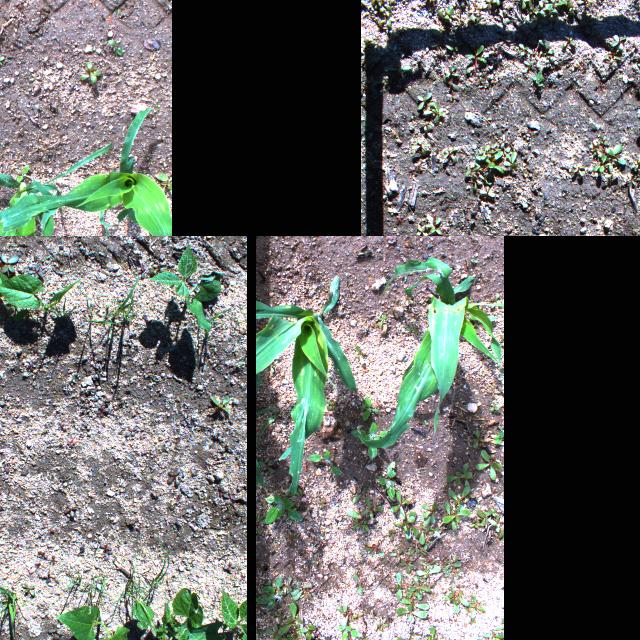crop: (358, 256, 504, 449), (0, 106, 172, 236), (256, 274, 357, 493), (0, 143, 112, 236), (149, 245, 225, 333), (125, 588, 203, 640), (0, 269, 80, 313), (188, 587, 245, 640), (56, 607, 134, 640)
weed: (88, 274, 140, 330), (411, 502, 444, 550), (376, 476, 412, 514), (396, 575, 430, 615), (472, 150, 504, 192), (262, 492, 304, 524), (442, 488, 472, 532), (350, 422, 388, 456), (256, 576, 292, 610), (516, 28, 550, 62), (0, 577, 18, 640), (64, 574, 104, 602), (256, 404, 282, 443), (308, 448, 344, 476), (120, 551, 138, 599), (394, 504, 416, 540), (477, 450, 503, 480), (274, 613, 306, 637), (444, 586, 471, 614), (0, 245, 23, 275), (154, 554, 170, 596), (446, 466, 474, 490), (464, 44, 486, 74), (428, 28, 454, 52), (207, 391, 233, 415), (464, 593, 486, 621), (288, 585, 304, 621), (359, 396, 381, 422), (422, 625, 460, 640), (474, 508, 502, 528), (600, 142, 624, 164), (444, 554, 466, 578), (382, 59, 412, 76), (20, 580, 44, 600), (80, 62, 102, 82), (594, 152, 614, 174), (362, 76, 384, 96), (604, 148, 628, 166), (424, 215, 443, 236), (414, 90, 432, 112), (444, 64, 458, 92), (502, 152, 518, 176), (265, 619, 283, 640), (529, 12, 549, 30), (410, 138, 430, 156), (422, 561, 442, 579), (578, 12, 594, 34), (406, 603, 428, 619), (156, 173, 172, 194), (432, 103, 446, 127), (338, 624, 359, 640), (467, 16, 485, 34), (377, 10, 395, 28), (62, 499, 80, 517), (13, 164, 29, 184), (437, 4, 453, 24), (222, 560, 238, 580), (544, 0, 565, 15), (478, 144, 497, 160), (297, 621, 313, 640), (604, 166, 620, 184), (352, 485, 368, 503), (355, 344, 369, 364), (534, 1, 550, 18), (166, 469, 180, 488), (108, 39, 124, 55), (442, 148, 458, 164), (219, 490, 235, 506), (547, 14, 561, 32), (612, 33, 626, 51), (478, 186, 496, 200), (472, 431, 484, 452), (532, 68, 544, 88), (34, 548, 54, 560), (373, 0, 391, 13), (562, 34, 576, 50), (588, 142, 604, 156), (100, 541, 114, 557), (46, 626, 62, 640), (397, 560, 413, 574), (350, 509, 360, 531), (364, 544, 386, 554), (407, 546, 429, 556), (604, 52, 622, 64), (387, 459, 398, 478), (362, 497, 372, 517), (484, 630, 504, 640), (418, 119, 434, 131), (633, 154, 640, 181), (572, 165, 586, 178), (415, 223, 429, 236), (511, 0, 529, 10), (497, 8, 507, 26), (93, 408, 111, 418), (523, 59, 535, 73), (452, 38, 464, 52), (598, 135, 610, 149), (478, 174, 492, 186), (126, 425, 138, 439), (528, 6, 544, 16), (360, 38, 376, 48), (498, 134, 508, 150), (464, 166, 480, 176), (396, 634, 421, 640), (489, 142, 501, 154), (361, 48, 371, 62), (413, 158, 423, 172), (360, 520, 370, 534), (405, 324, 419, 334), (304, 633, 324, 640), (274, 634, 297, 640), (482, 0, 497, 9), (627, 172, 637, 185), (542, 11, 558, 19), (493, 431, 502, 445), (455, 0, 470, 8), (502, 147, 512, 159), (336, 604, 348, 614), (576, 0, 592, 7), (540, 49, 554, 57), (496, 618, 504, 632), (522, 0, 537, 7), (488, 0, 503, 7), (496, 16, 509, 24), (604, 60, 614, 70), (474, 71, 484, 81), (478, 80, 488, 90), (423, 110, 439, 116), (378, 314, 386, 326), (567, 0, 575, 10), (44, 575, 54, 583), (423, 0, 434, 7), (635, 79, 640, 94), (489, 403, 498, 411), (0, 487, 4, 504), (581, 66, 589, 74), (396, 215, 404, 223), (374, 506, 384, 512), (470, 258, 480, 264), (370, 0, 379, 6), (352, 574, 360, 580), (498, 530, 504, 538), (0, 55, 4, 65)
